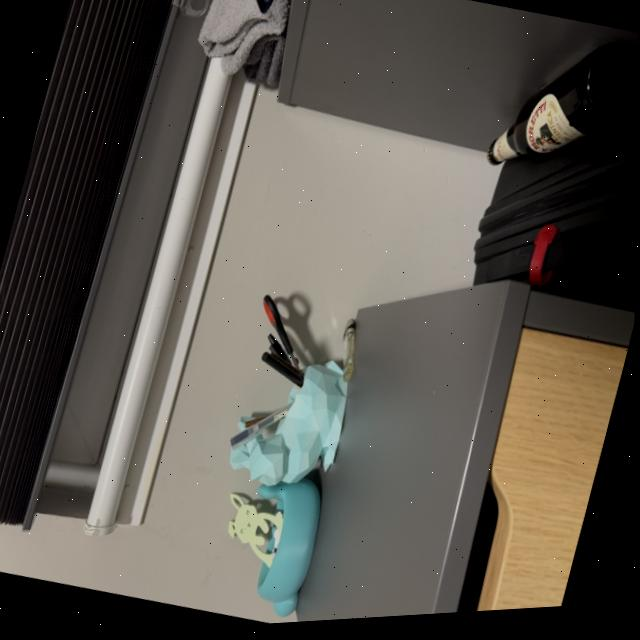beer: (480, 16, 639, 207)
